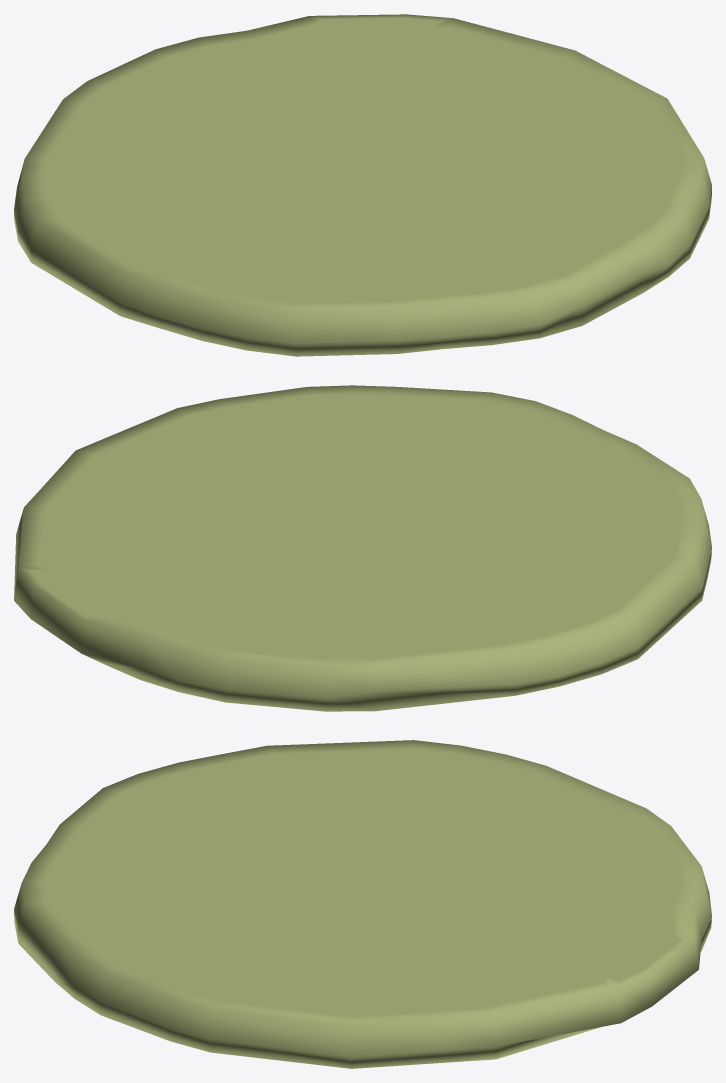
The model's file is Ground.fbx.
3 renders of one model, top to bottom at view 1: azimuth 30°, elevation 25°; view 2: azimuth 150°, elevation 25°; view 3: azimuth 270°, elevation 25°, orthographic.
Parts seen in each view (by area): view 1: _ground; view 2: _ground; view 3: _ground.
Part boxes in pixels (x1=…): _ground: x1=14, y1=14, x2=711, y2=356; _ground: x1=14, y1=385, x2=711, y2=711; _ground: x1=14, y1=740, x2=711, y2=1068.
Bounding box in the file's own units: 16.42 × 1.2 × 16.57.
